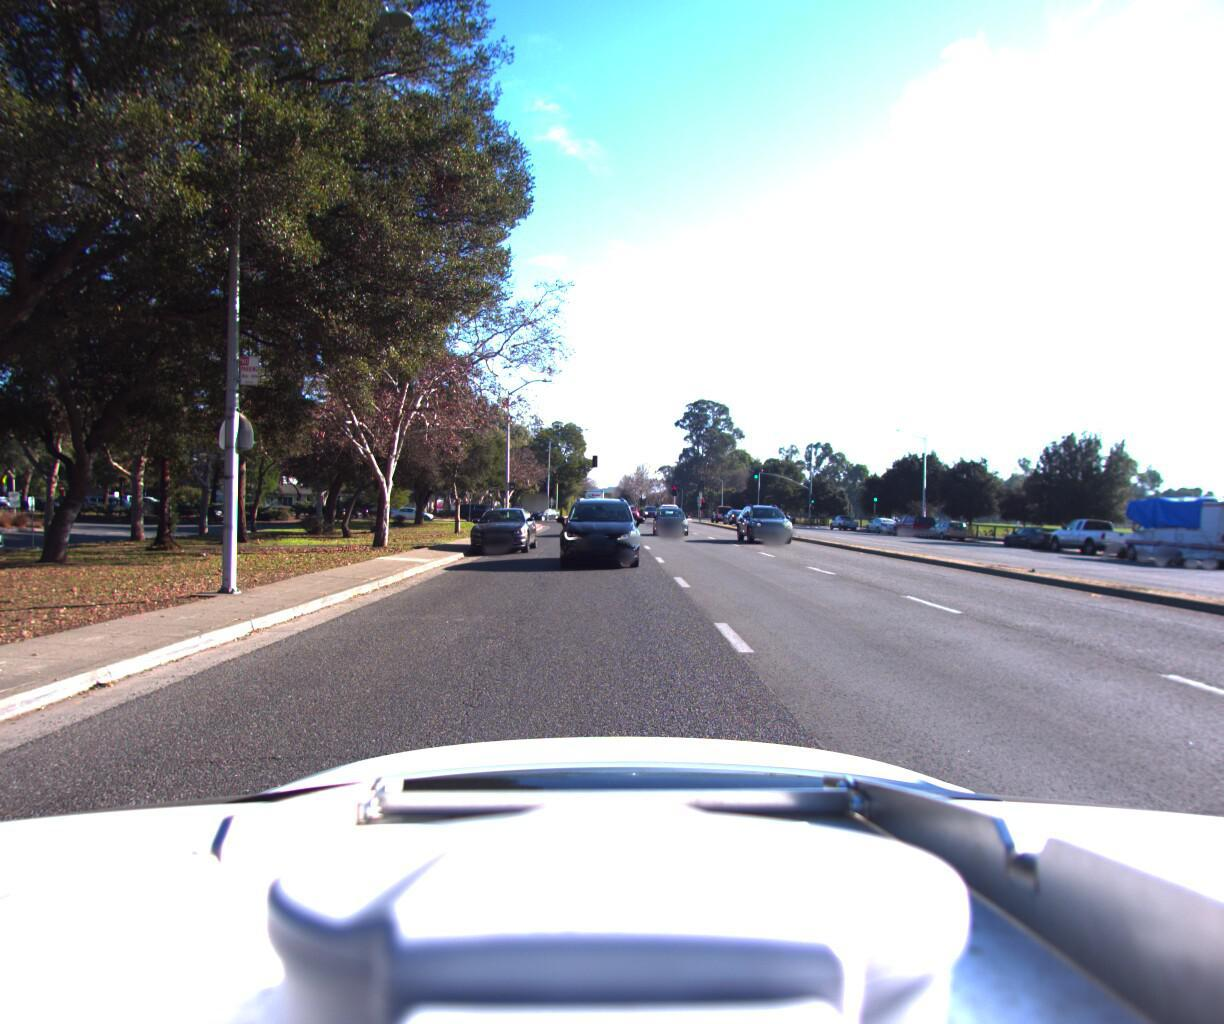car: (549, 496, 640, 583), (1039, 520, 1143, 566), (467, 511, 544, 564), (732, 507, 793, 553), (995, 531, 1068, 559), (649, 513, 691, 544), (888, 520, 937, 546), (921, 524, 969, 549), (861, 523, 900, 542), (389, 514, 436, 529), (827, 521, 860, 539)
other_vehicle: (1110, 495, 1224, 579)
